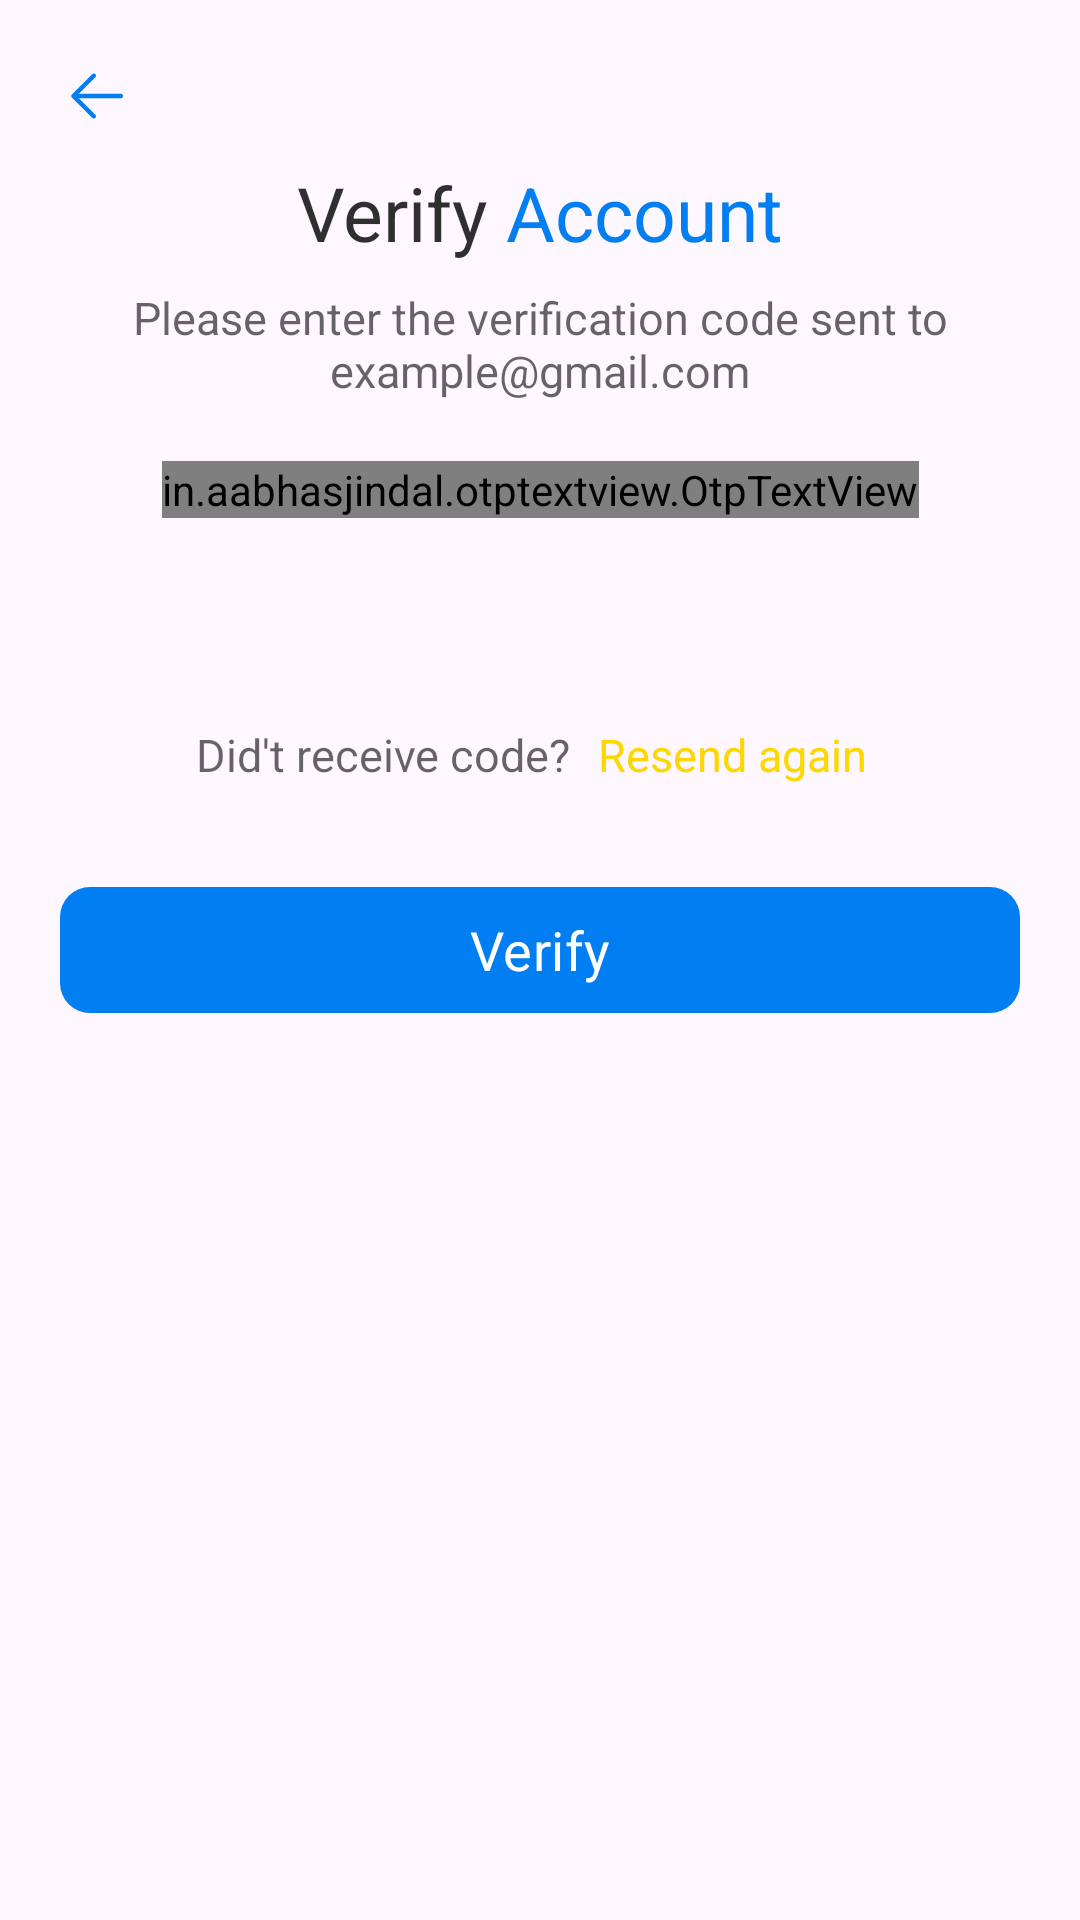

Icons on this 1080×1920 Android screen, each with its box as (x1, y1, x2, y2):
back: (71, 73, 123, 119)
